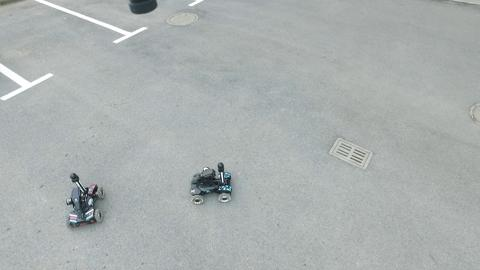chariot: (54, 169, 112, 235), (180, 160, 239, 211)
